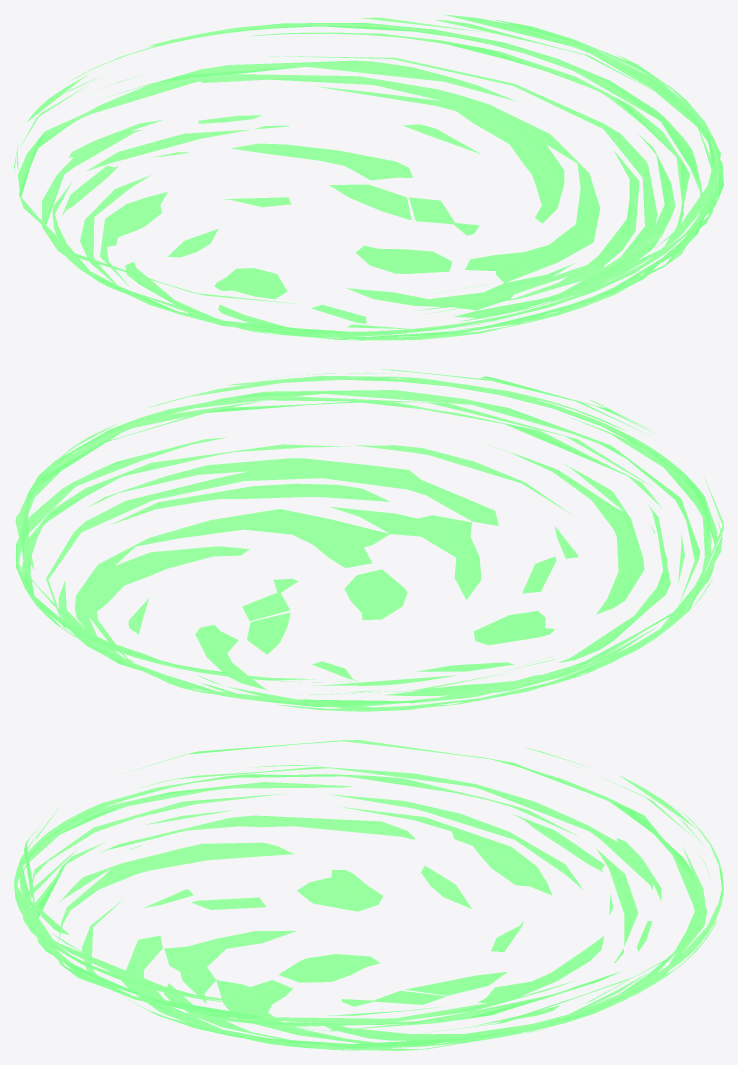
File: tp_ground.glb
3 renders of one model, top to bottom at view 1: azimuth 30°, elevation 25°; view 2: azimuth 150°, elevation 25°; view 3: azimuth 270°, elevation 25°, orthographic. The views are drawn at different scales.
Visible parts, largest first — view 1: Sphere; view 2: Sphere; view 3: Sphere.
Boxes of the visible parts, x1=… form: Sphere: x1=14, y1=14, x2=723, y2=340; Sphere: x1=15, y1=369, x2=723, y2=711; Sphere: x1=14, y1=740, x2=723, y2=1050.
Bounding box in the file's own units: 1.02 × 0.1633 × 1.05.
